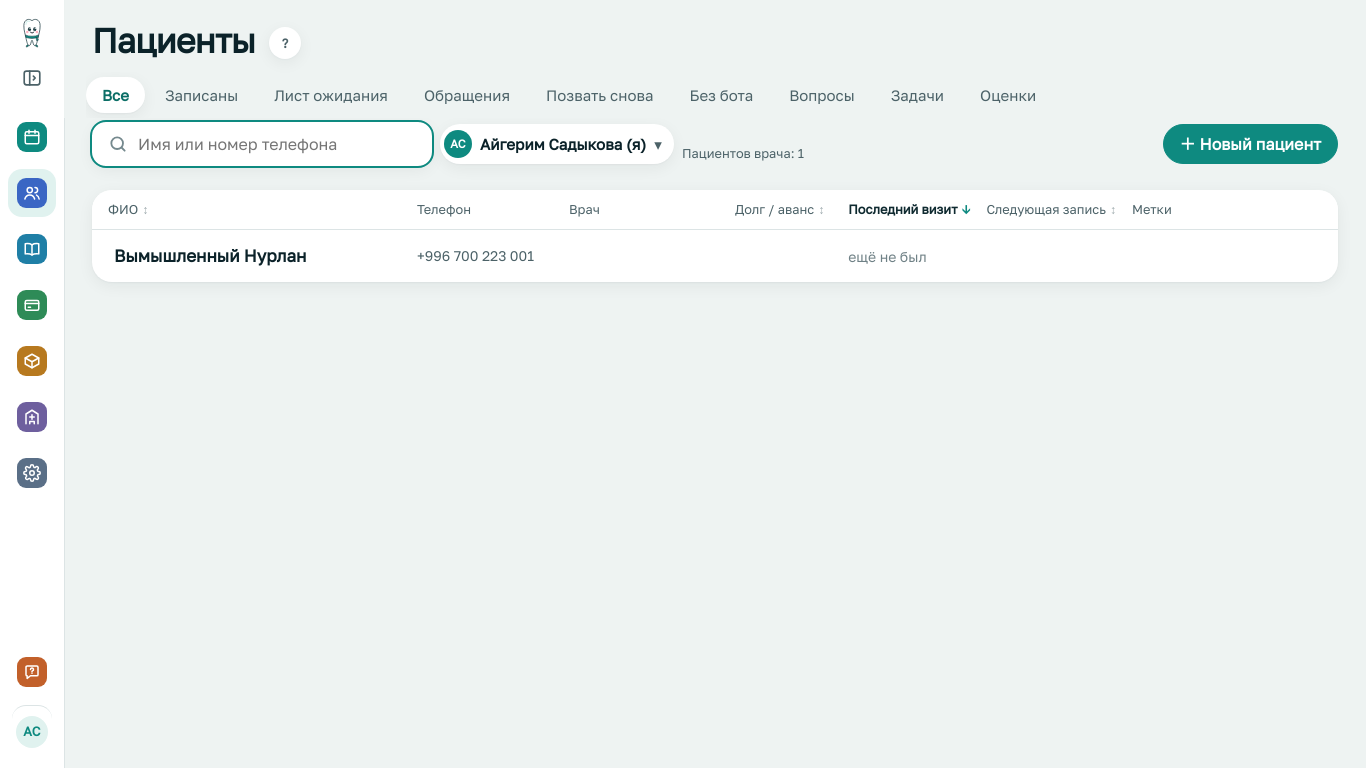
Test: ВИП — звезда у имени в шапке; в «Прочем» галочки ВИП нет
Later steps or results of the test are not shown.
Click the button "Вымышленный Нурлан" at (210, 256), box left=114, top=243, right=306, bottom=269
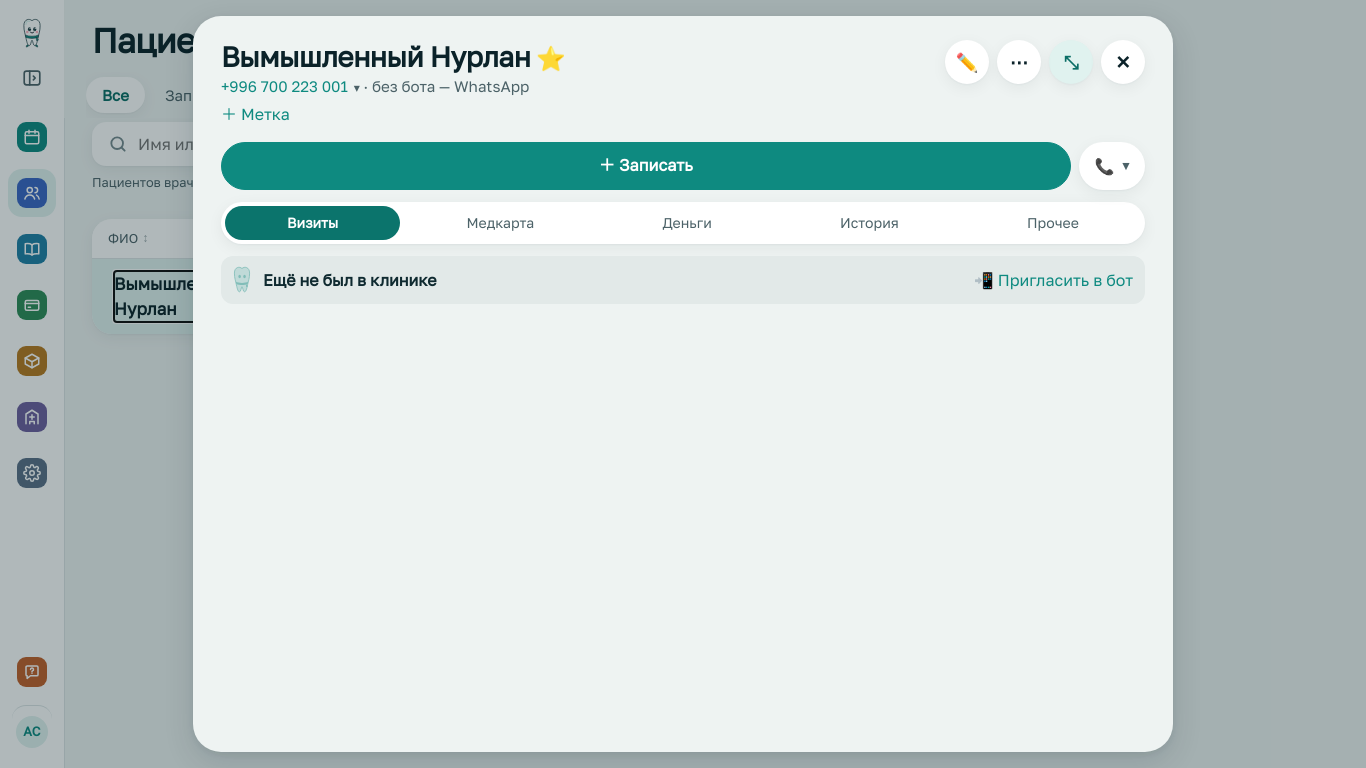
Now the picture named "ВИП — особое внимание" is shown, box left=530, top=44, right=565, bottom=72
